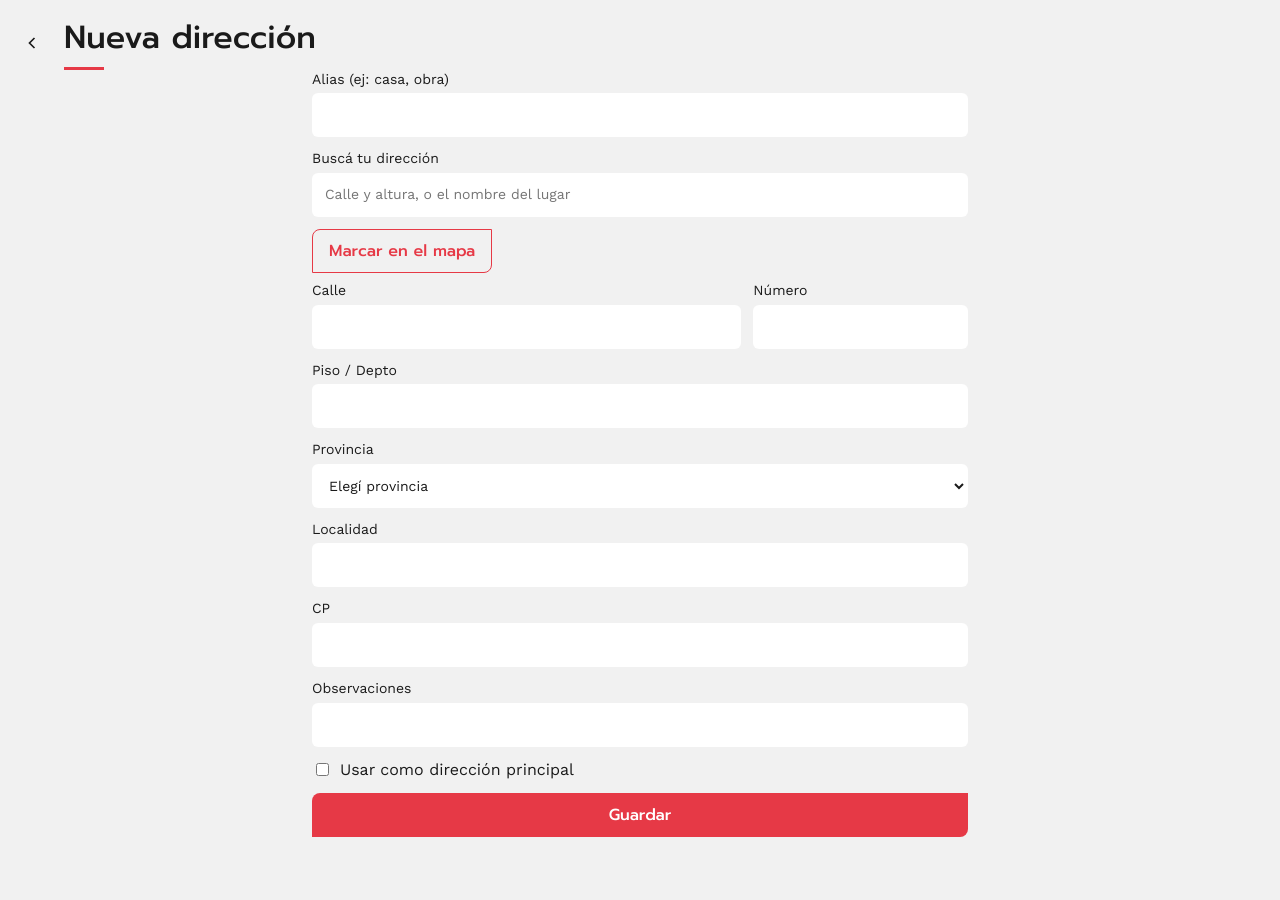
Test: AgregarDireccion con el mapa › editado a mano, el botón pasa a invitar a marcar el punto
Type "mitre 450" into the field labelled "Buscá tu dirección" at [640, 195], box [312,173,968,217]
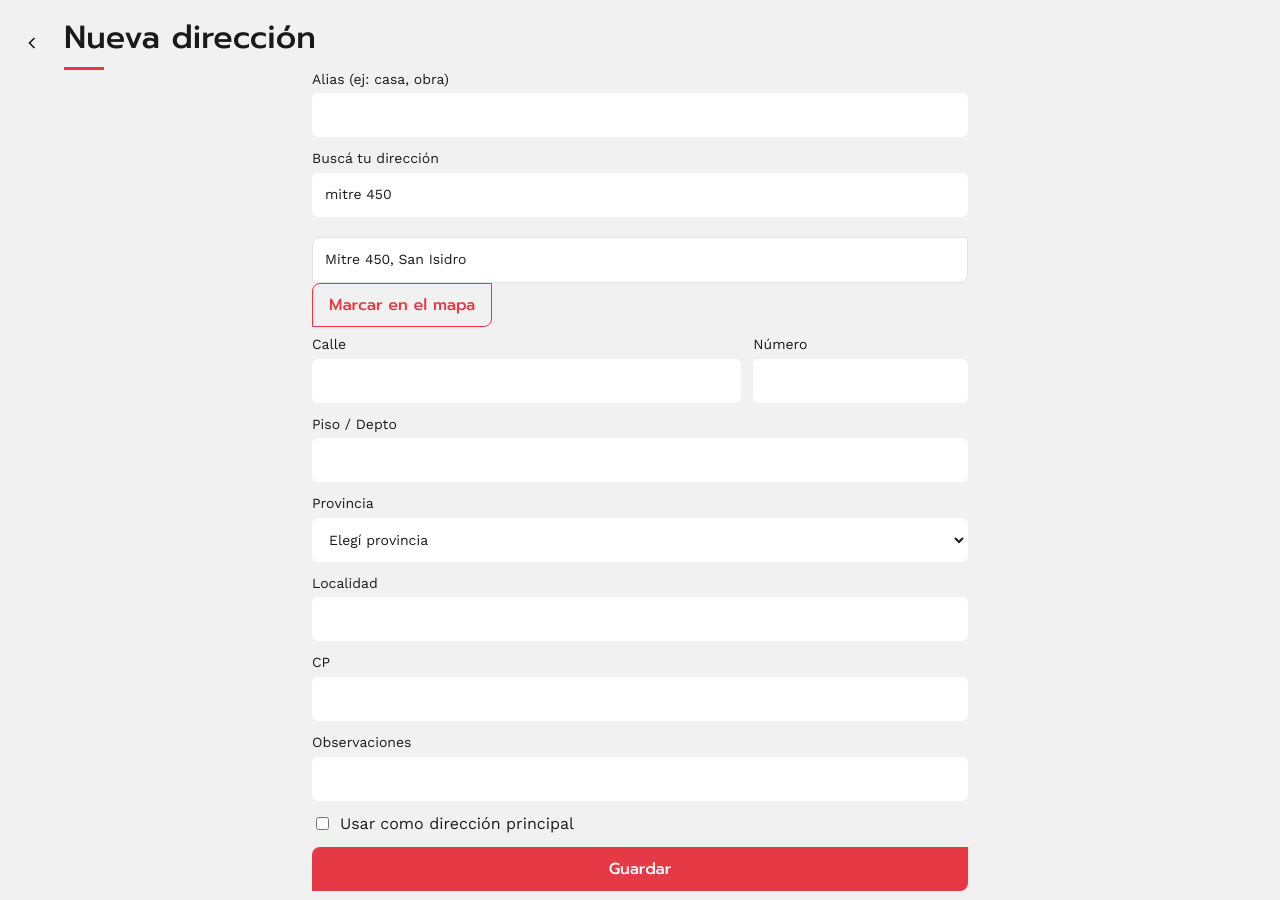
Click the option "Mitre 450, San Isidro" at [396, 259], box [313,238,967,282]
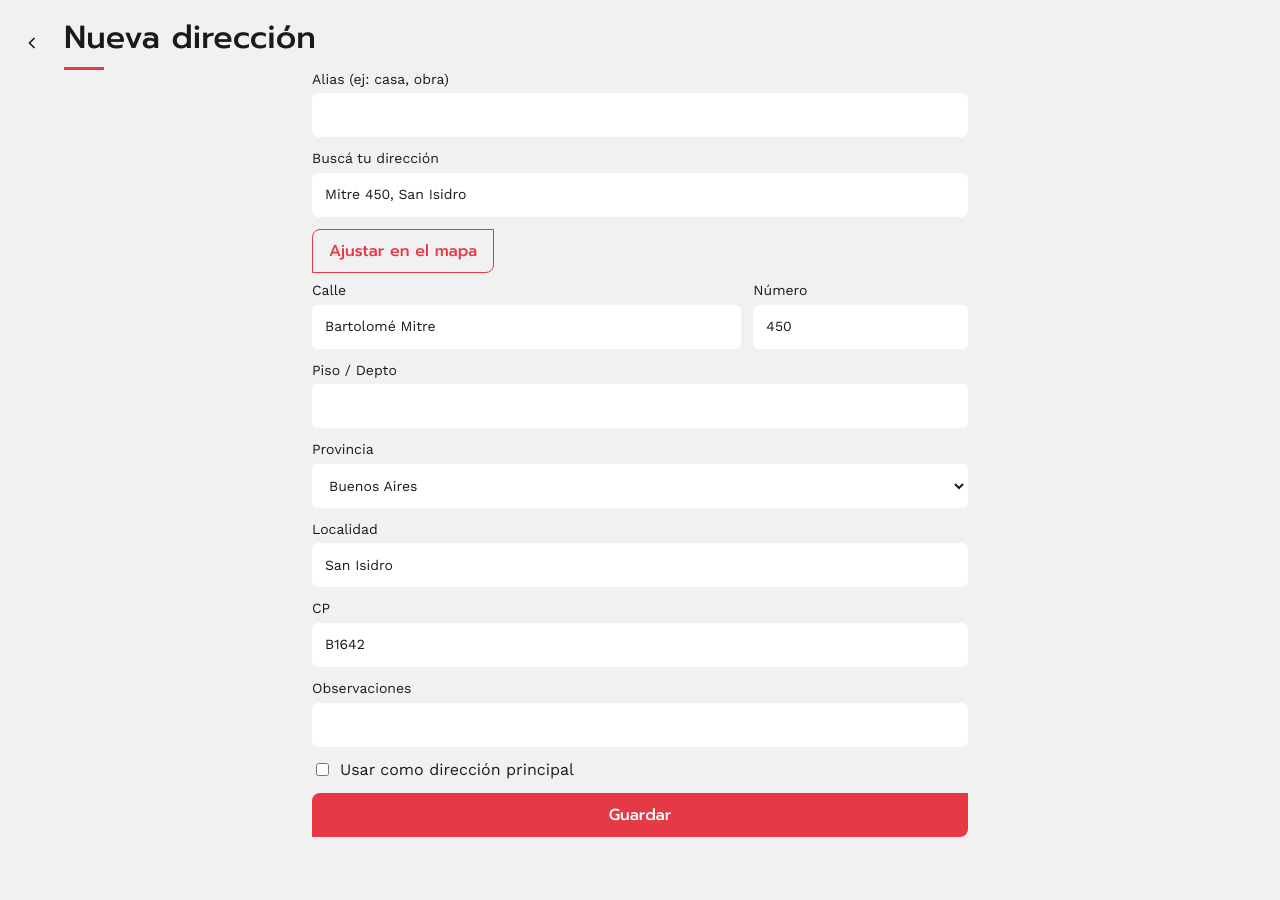
Expected: the field labelled "Calle" holds "Bartolomé Mitre"
Replace the text in the field labelled "Calle" with "Rivadavia" at [527, 327], box [312,305,741,349]
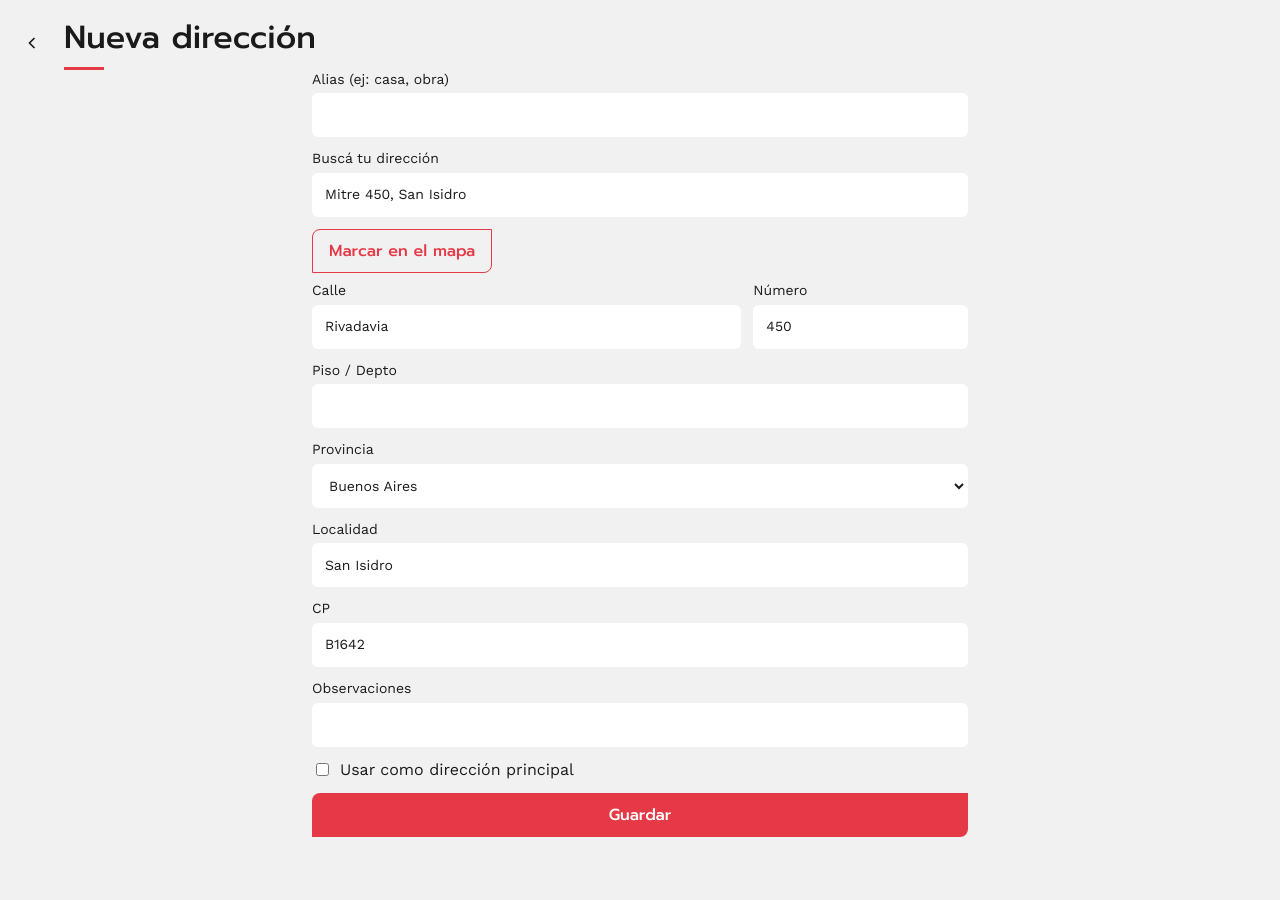
Expected: the button "Marcar en el mapa" is enabled, [312,229,492,273]
Expected: the button "Ajustar en el mapa" is gone
